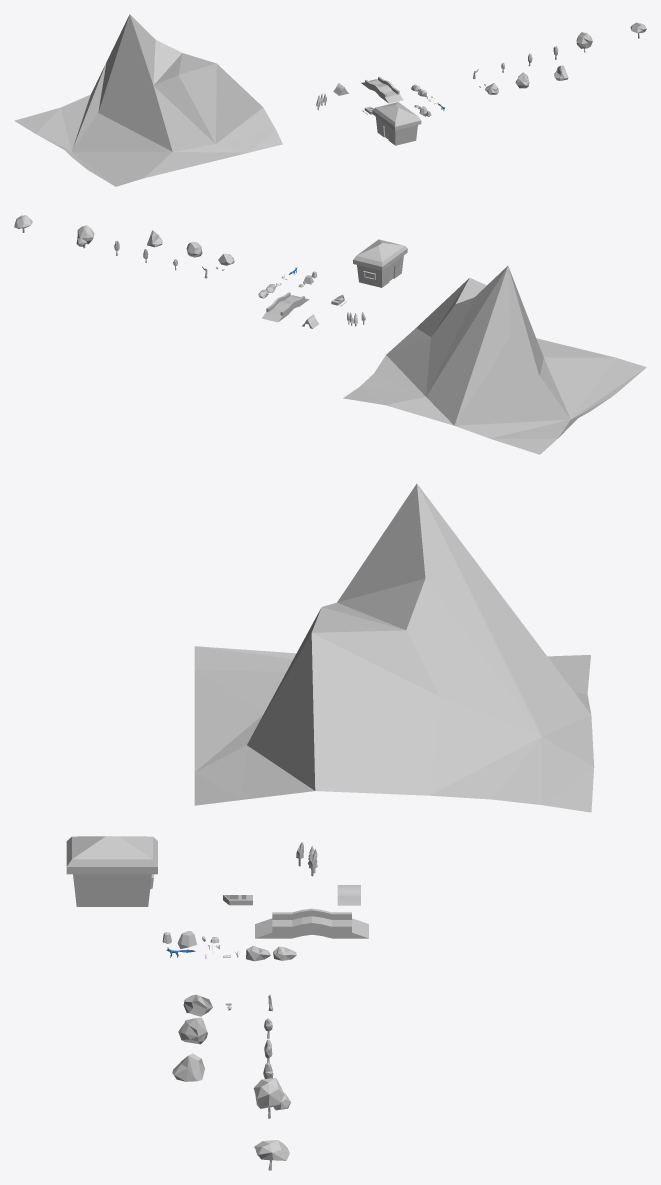
File: Assets with Atlas.fbx
The picture shows the model from 3 angles, top to bottom: view 1: azimuth 30°, elevation 25°; view 2: azimuth 150°, elevation 25°; view 3: azimuth 270°, elevation 25°; orthographic projection. The views are drawn at different scales.
Parts seen in each view (by area): view 1: mountain_01, home, Gsr; view 2: mountain_01, home, Gsr; view 3: mountain_01, home, Gsr.
Part boxes in pixels (<box>): mountain_01: <box>14,14,282,186</box>; home: <box>372,102,421,145</box>; Gsr: <box>361,76,403,103</box>; mountain_01: <box>343,266,646,454</box>; home: <box>353,239,407,287</box>; Gsr: <box>262,292,308,322</box>; mountain_01: <box>194,483,594,812</box>; home: <box>66,836,157,906</box>; Gsr: <box>255,908,368,938</box>.
Bounding box in the file's own units: 11801 × 2543 × 4892.
